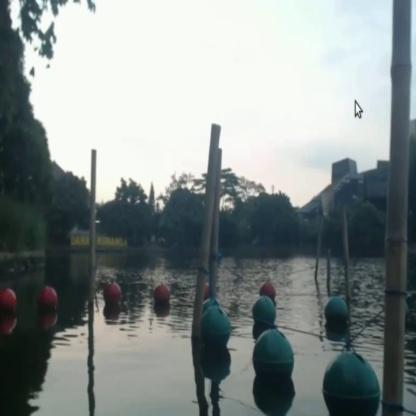green_buoy: (320, 352, 379, 415), (252, 330, 296, 390), (323, 298, 349, 338), (204, 308, 228, 350), (252, 298, 274, 328)
red_buoy: (103, 279, 123, 311), (0, 290, 18, 324), (152, 279, 172, 309), (41, 284, 56, 316), (259, 282, 274, 296)
